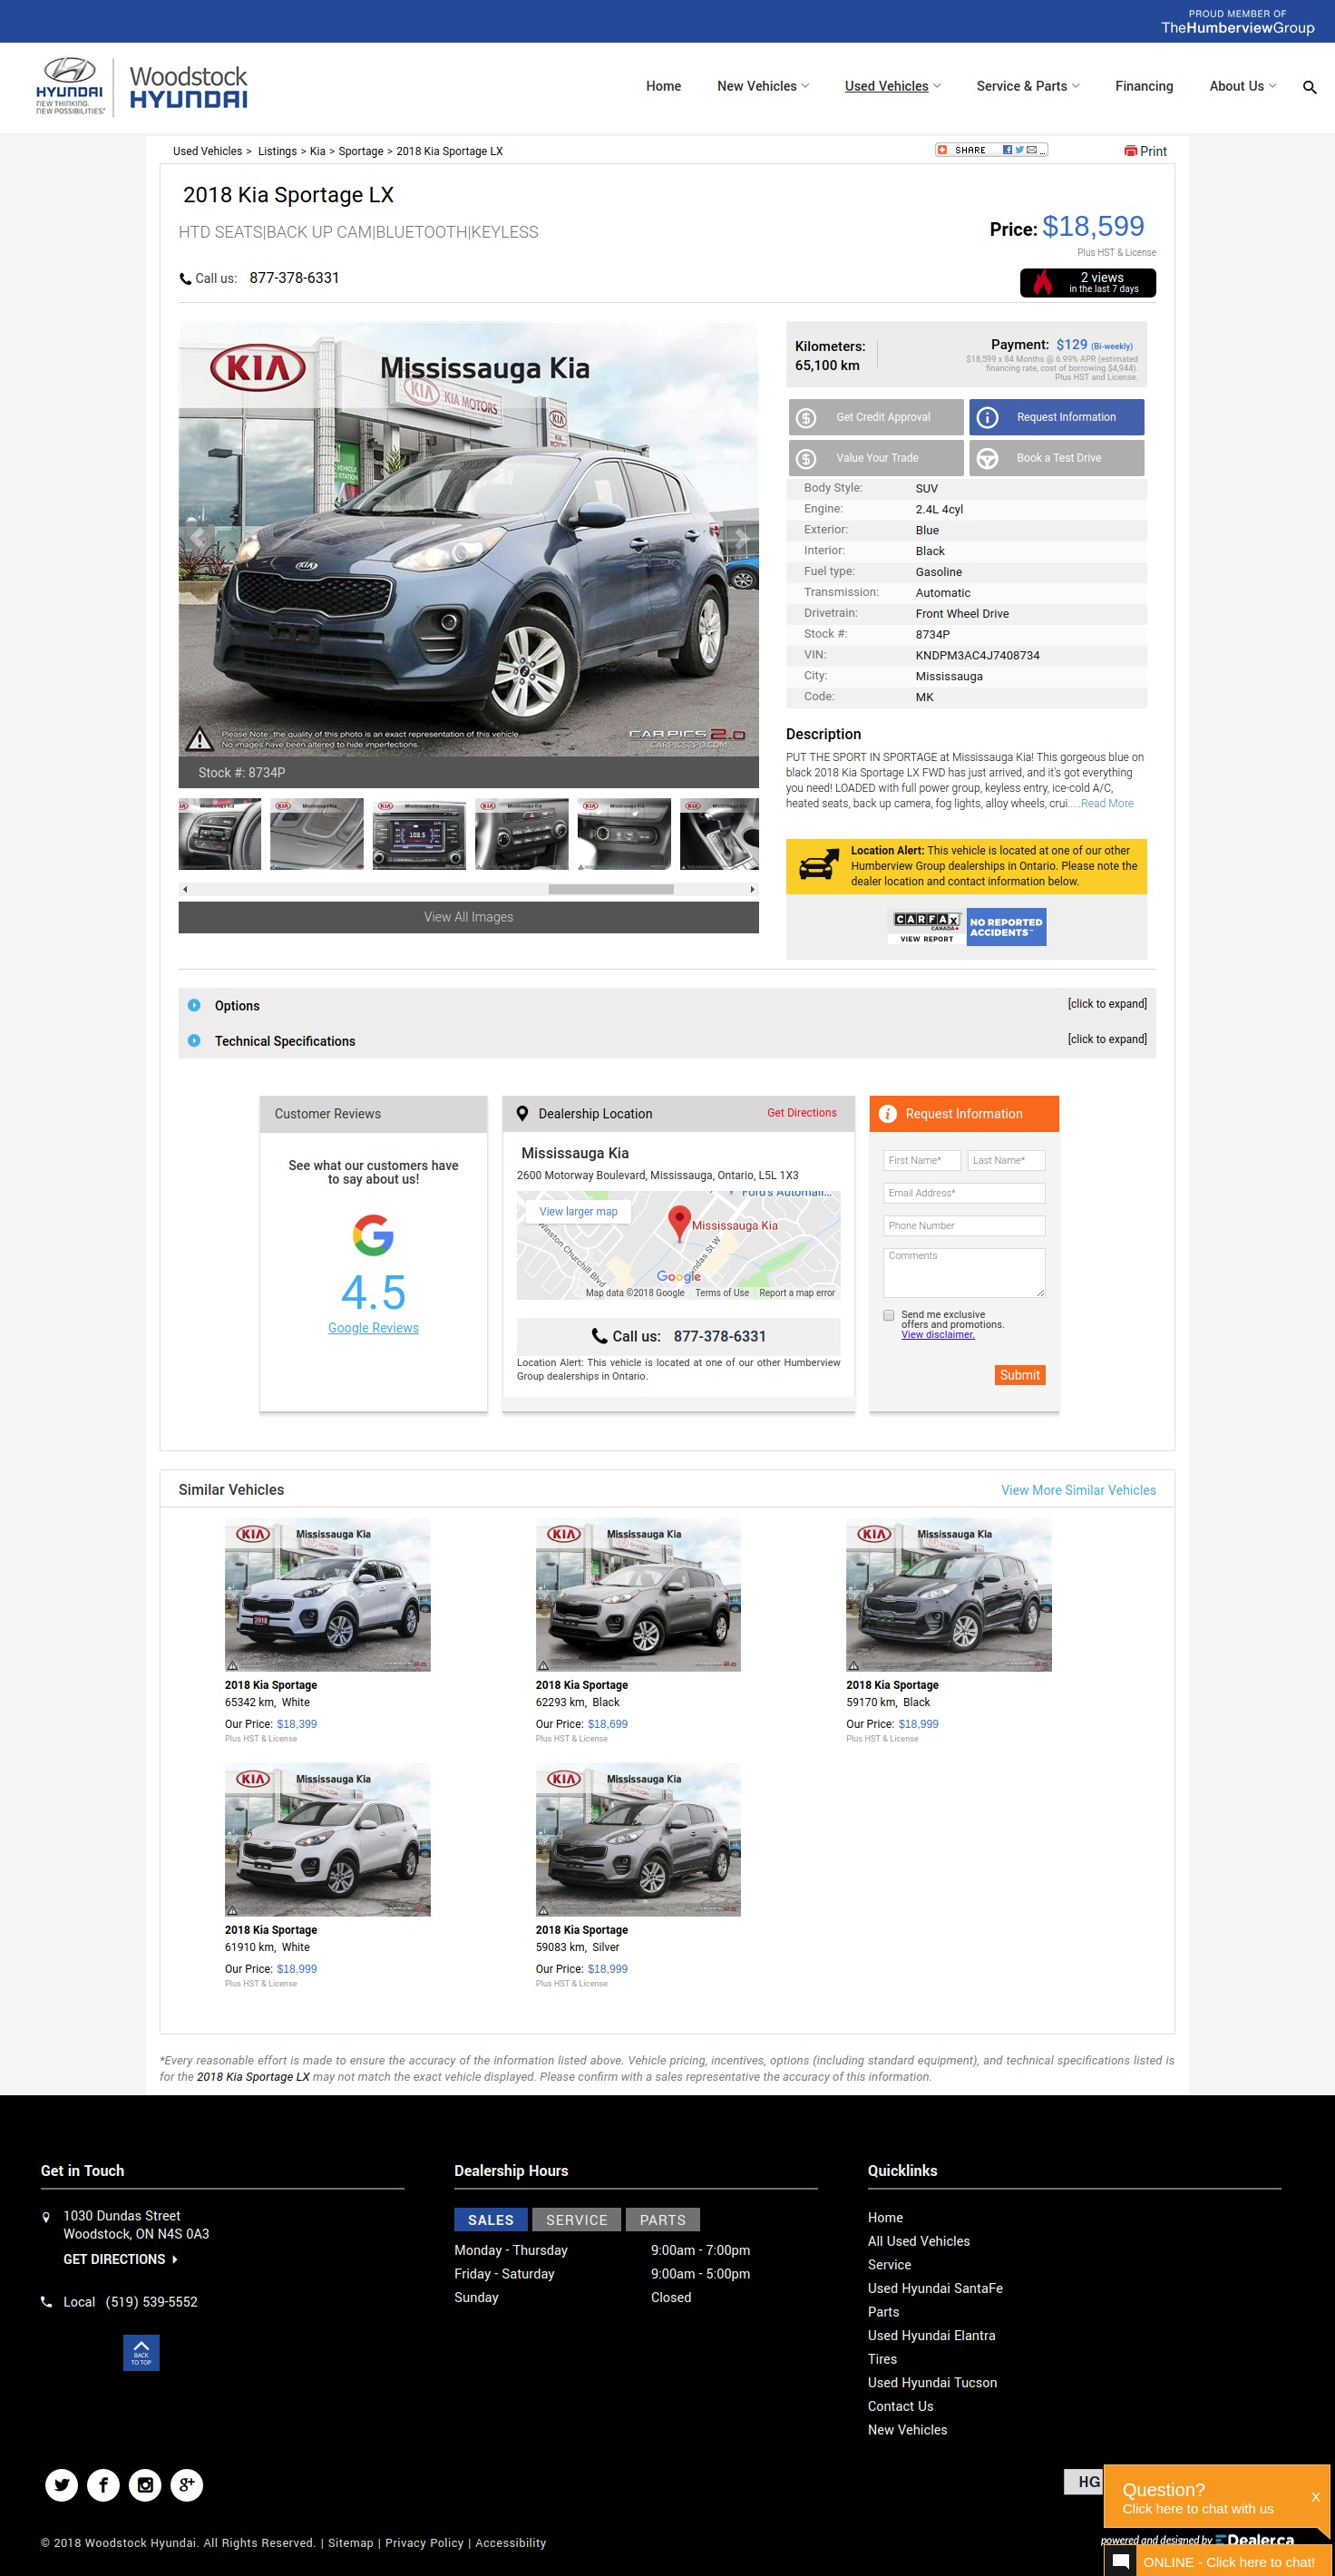car: (751, 885, 756, 894)
